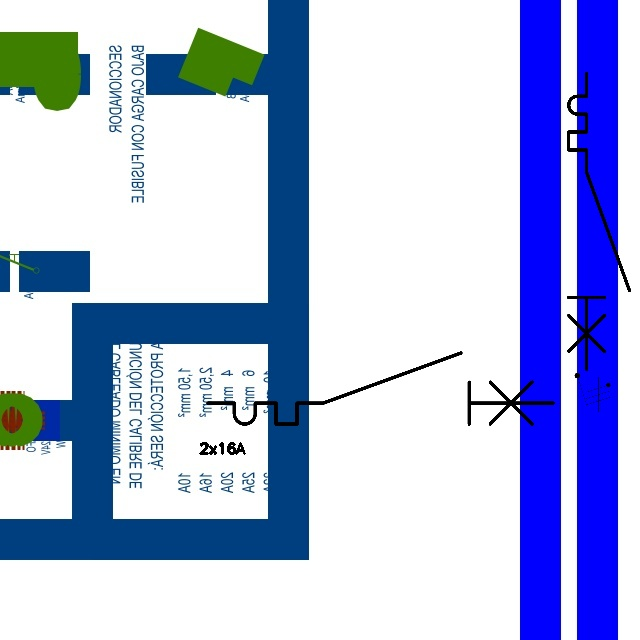interruptor_termomagnetico: (199, 344, 562, 433), (561, 66, 637, 377)
